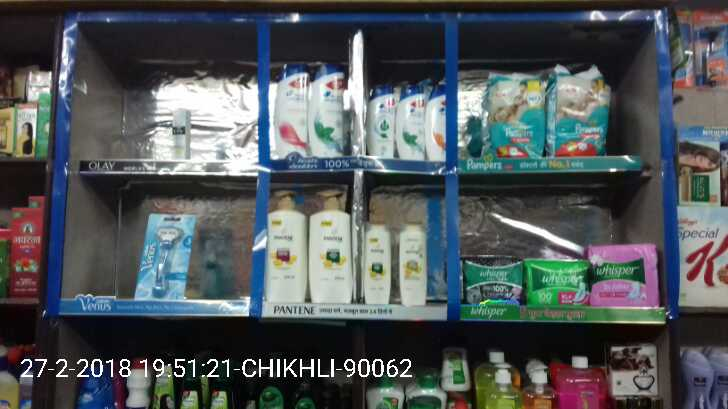venus: (134, 215, 194, 299)
